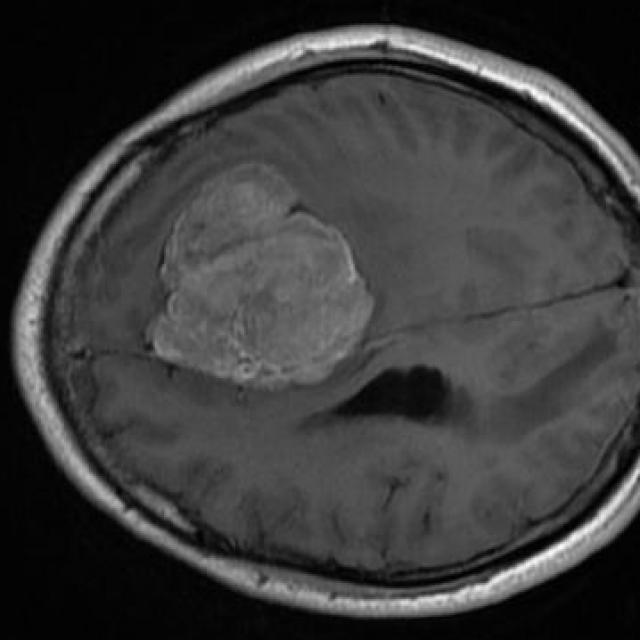meningioma: (152, 164, 373, 389)
